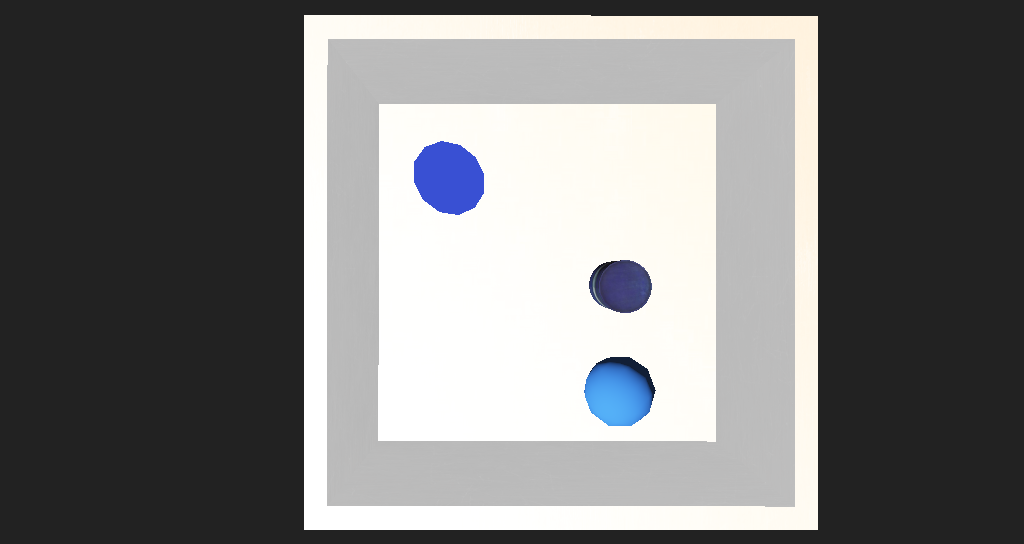cone: (549, 260, 596, 293)
cylinder: (337, 179, 458, 251)
sphere: (532, 322, 600, 365)
